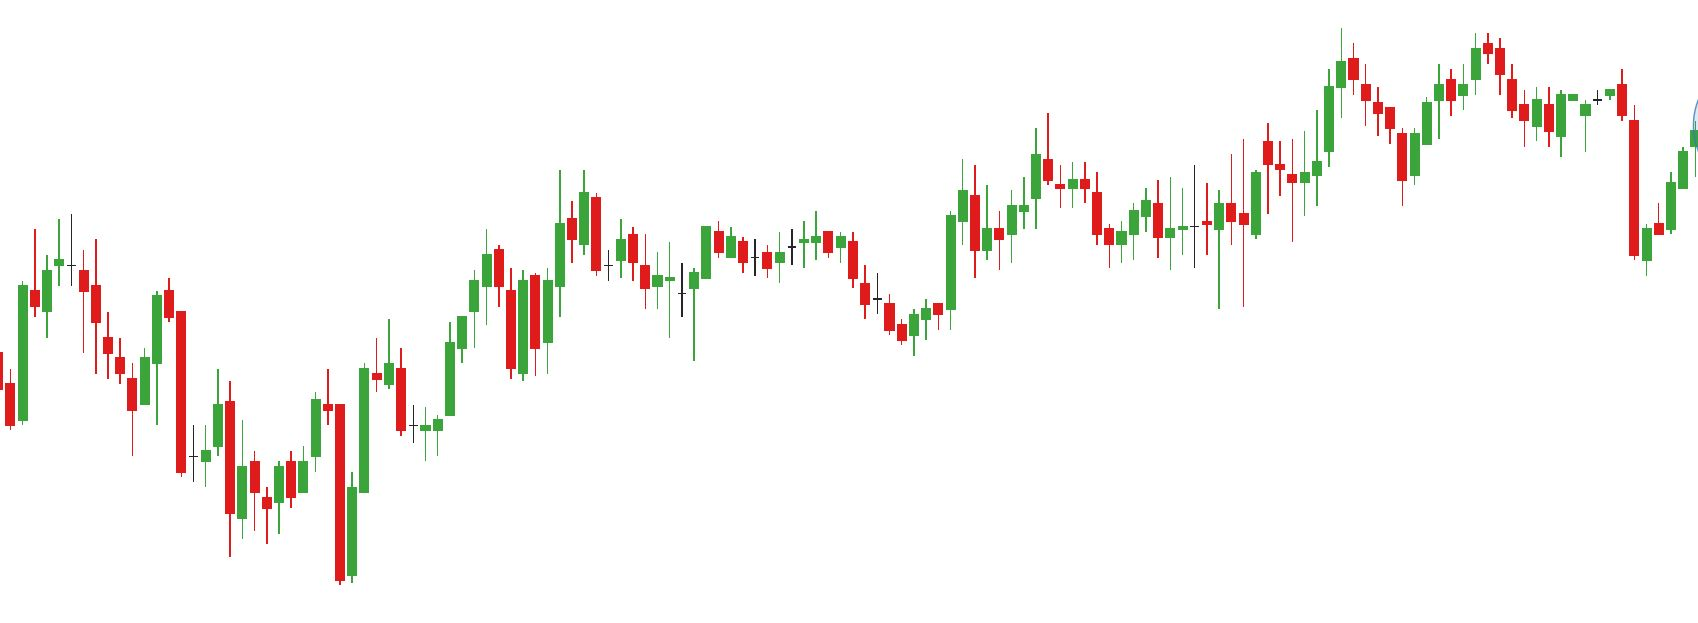buy: (222, 450, 358, 588), (1309, 114, 1422, 209)
sell: (480, 171, 578, 324)
